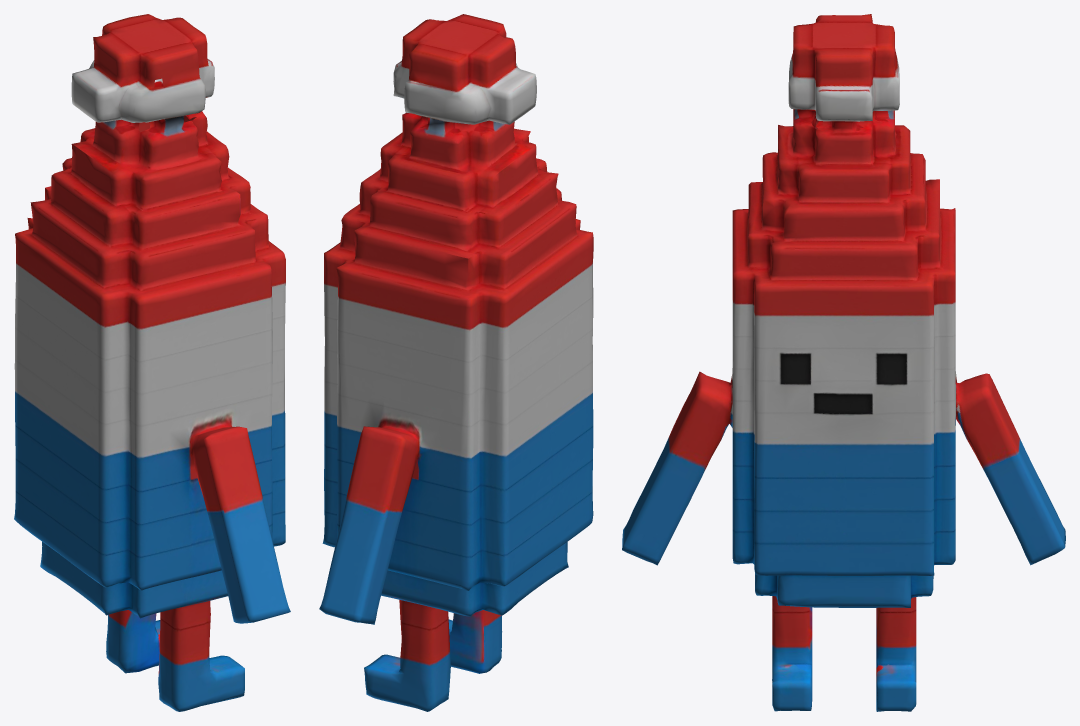
File: Npc.fbx
The picture shows the model from 3 angles, left to right: view 1: azimuth 30°, elevation 25°; view 2: azimuth 150°, elevation 25°; view 3: azimuth 270°, elevation 25°; orthographic projection.
Visible parts, largest first — view 1: tripo_node_22871c5b; view 2: tripo_node_22871c5b; view 3: tripo_node_22871c5b.
Boxes of the visible parts, x1,y1,x2,y2 form: tripo_node_22871c5b: [14, 14, 290, 711]; tripo_node_22871c5b: [319, 14, 593, 711]; tripo_node_22871c5b: [622, 14, 1065, 711].
Bounding box in the file's own units: 0.301 × 1 × 0.6202.
Materials: 1 (1 with a texture image).
